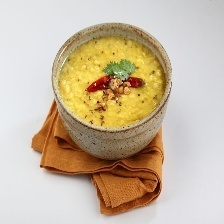dal: (55, 32, 169, 130)
